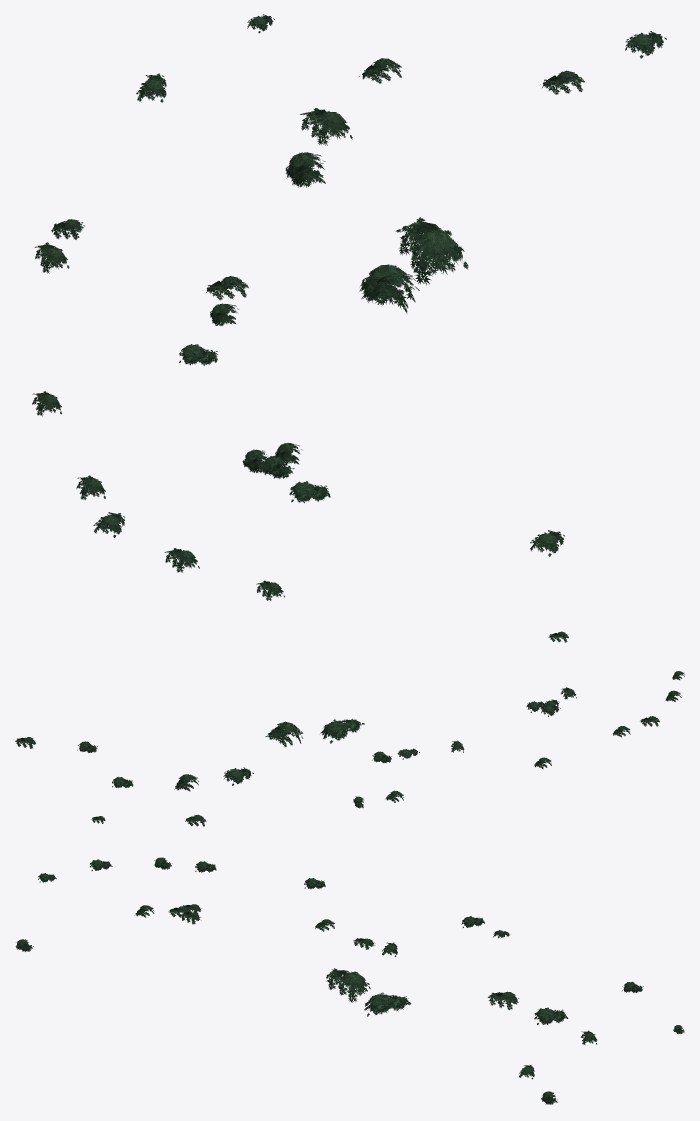
The model's file is zhibei03.fbx.
3 renders of one model, top to bottom at view 1: azimuth 30°, elevation 25°; view 2: azimuth 150°, elevation 25°; view 3: azimuth 270°, elevation 25°, orthographic. The views are drawn at different scales.
Visible parts, largest first — view 1: zhibei03; view 2: zhibei03; view 3: zhibei03.
Part boxes in pixels (left/top/right/bottom): zhibei03: left=32, top=14, right=666, bottom=600; zhibei03: left=15, top=631, right=684, bottom=826; zhibei03: left=15, top=857, right=684, bottom=1104.
Bounding box in the file's own units: 10769 × 556 × 12392.
